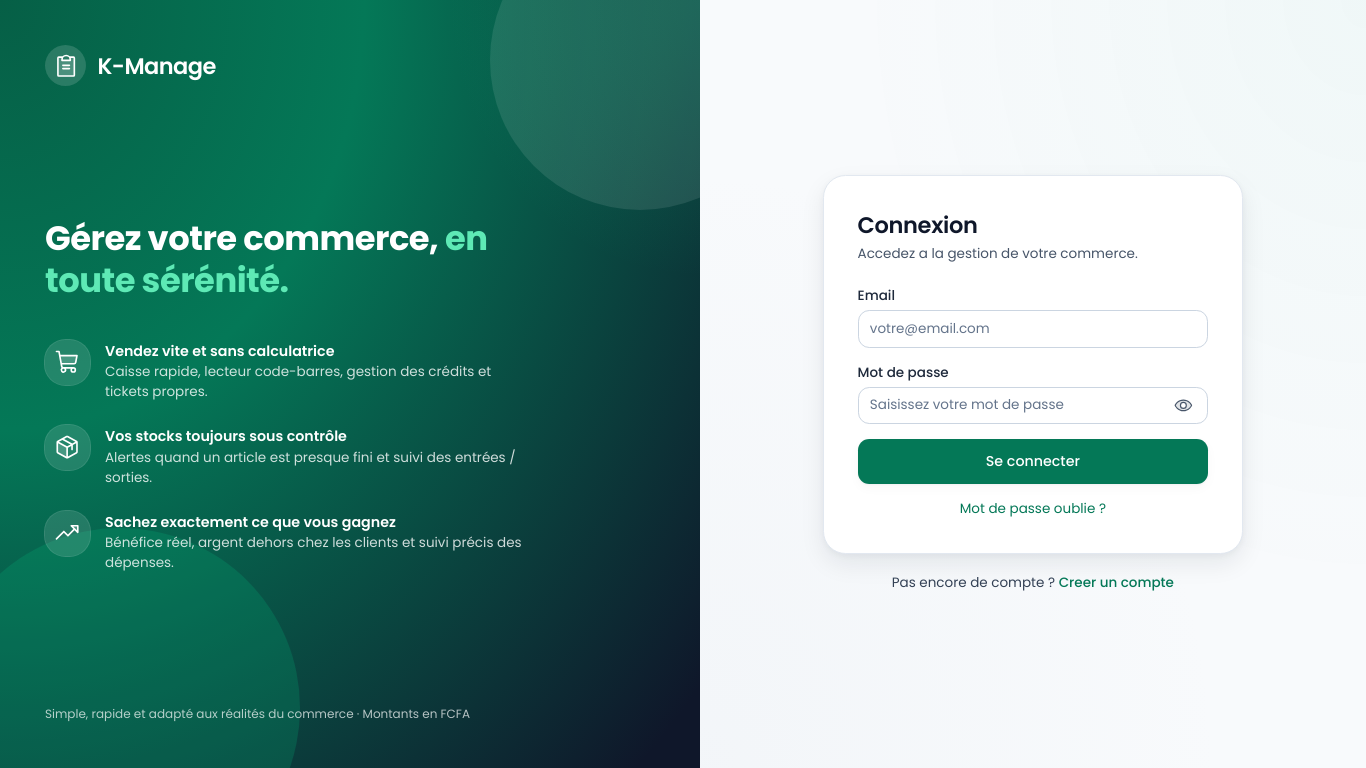
Test: authentification et navigation › valide le formulaire de connexion avant tout appel reseau
Click the button "Se connecter": (1033, 461) 858,439 -> 1208,484
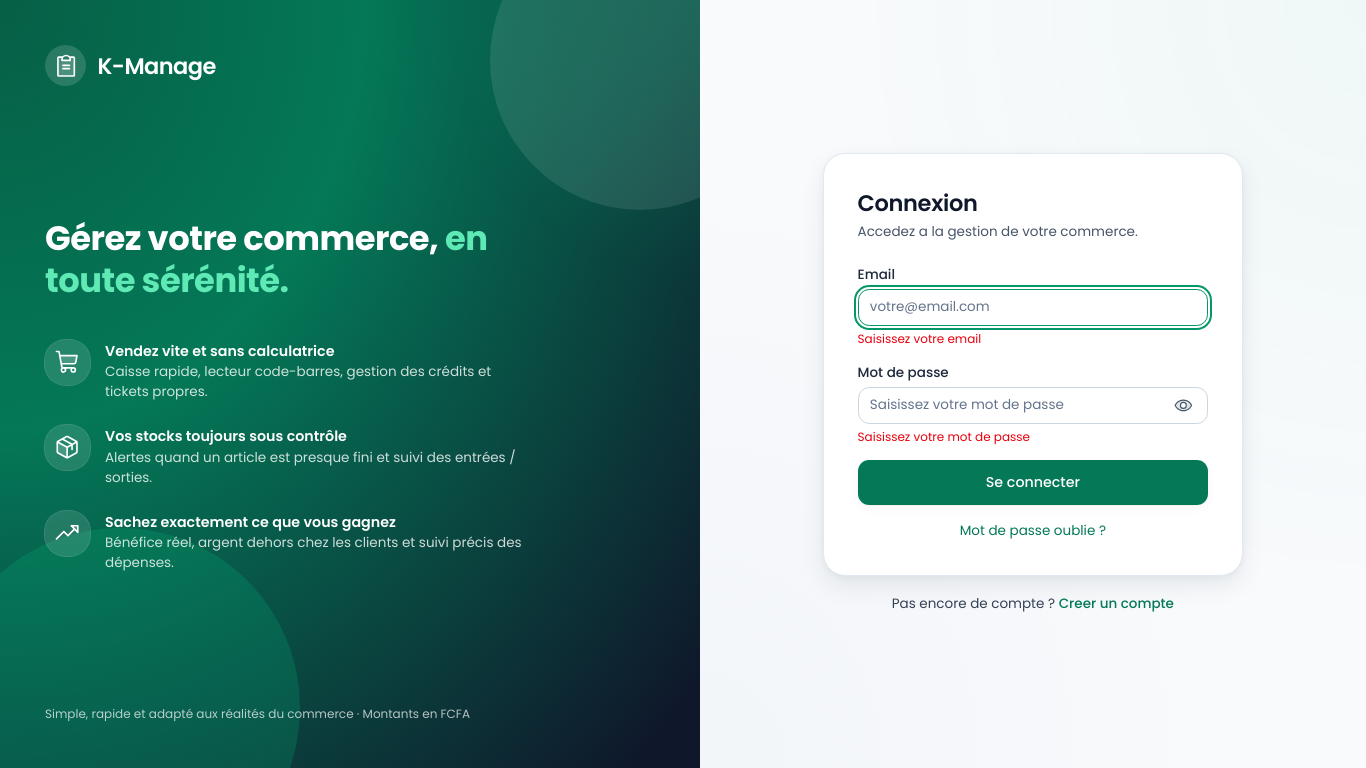
Expected: the text "Saisissez votre email" is shown, 858,330 -> 981,347
Expected: the text "Saisissez votre mot de passe" is shown, 858,428 -> 1030,445
